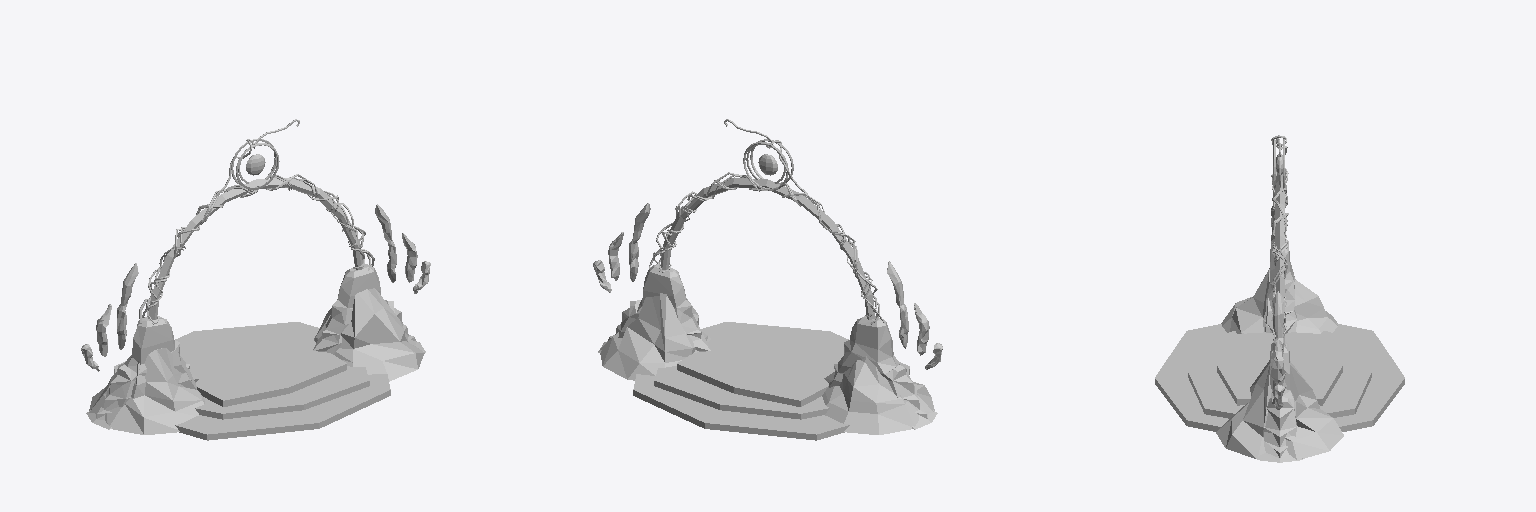
Rendered from Gate2.obj.
3 renders of one model, left to right at view 1: azimuth 30°, elevation 25°; view 2: azimuth 150°, elevation 25°; view 3: azimuth 270°, elevation 25°, orthographic.
Parts seen in each view (by area): view 1: polySurface136; view 2: polySurface136; view 3: polySurface136.
Boxes of the visible parts, box(x1,y1,x2,y2) form: polySurface136: box(81, 119, 430, 440); polySurface136: box(593, 119, 942, 440); polySurface136: box(1155, 135, 1404, 462).
Bounding box in the file's own units: 964 × 670 × 598.